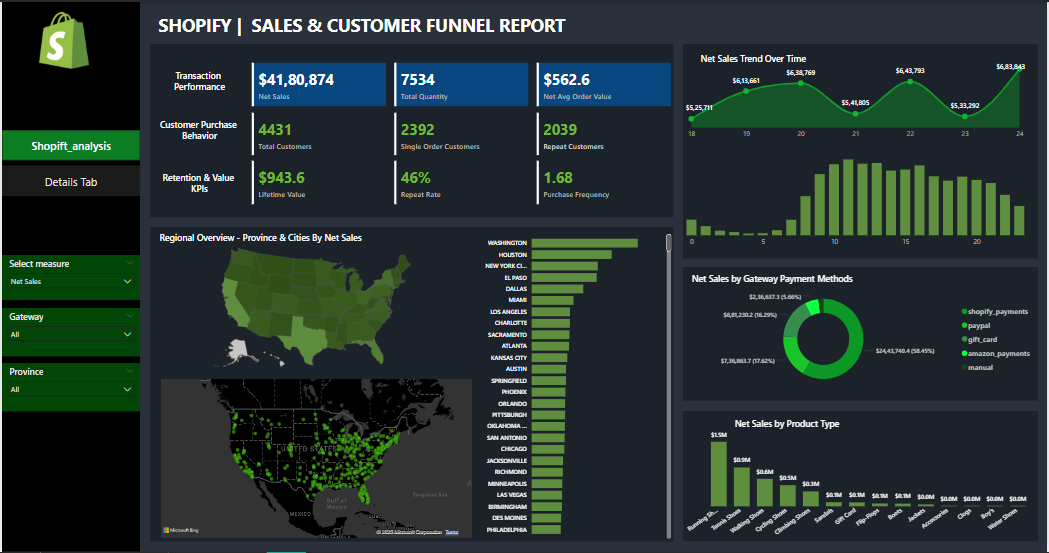

Layout of this report page (visuals, bound fields, positions):
{"tool":"powerbi","page":{"name":"Shopift_analysis","canvas":[1900,1000],"ordinal":0},"visuals":[{"type":"shape","box":[0,0,251.3,999],"z":0},{"type":"textbox","box":[269.7,14.3,770.2,67.4],"z":1000},{"type":"shape","box":[269.7,75.6,952,314.6],"z":2000},{"type":"cardVisual","fields":{"Data":["shopify_sales.Net Sales","shopify_sales.Total Quantity","shopify_sales.Net Avg Order Value"]},"box":[449.5,106.2,772.3,89.9],"z":3000},{"type":"card","fields":{"Values":["shopify_sales.Transaction Perf"]},"box":[269.7,98.1,179.8,89.9],"z":4000},{"type":"cardVisual","fields":{"Data":["shopify_sales.Total Customers","shopify_sales.Single Order Customers","shopify_sales.Repeat Customers"]},"box":[449.5,196.1,772.3,87.8],"z":5000},{"type":"card","fields":{"Values":["shopify_sales.Customer Purchase Behavior"]},"box":[269.7,188,179.8,89.9],"z":6000},{"type":"cardVisual","fields":{"Data":["shopify_sales.Lifetime Value","shopify_sales.Repeat Rate","shopify_sales.Purchase Frequency"]},"box":[449.5,284,772.3,89.9],"z":7000},{"type":"card","fields":{"Values":["shopify_sales.Retention & Value KPIs"]},"box":[269.7,284,179.8,89.9],"z":8000},{"type":"shape","box":[269.7,408.6,952,572],"z":9000},{"type":"shapeMap","fields":{"Value":["shopify_sales.Net Sales"],"Category":["shopify_sales.Billing Address Province"]},"box":[269.7,431.1,590.4,249.2],"z":10000},{"type":"slicer","fields":{"Values":["Select measure.Select measure"]},"box":[0,459.7,251.3,81.7],"z":11000},{"type":"map","fields":{"Category":["shopify_sales.Location"]},"box":[284,680.3,576.1,300.3],"z":12000},{"type":"clusteredBarChart","fields":{"Y":["shopify_sales.Net Sales"],"Category":["shopify_sales.CITY"]},"box":[860.1,408.6,361.6,572],"z":13000},{"type":"card","fields":{"Values":["Select measure.Map Title"]},"box":[170,408,598,46],"z":14000},{"type":"shape","box":[1238.1,75.6,645.6,390.2],"z":15000},{"type":"areaChart","fields":{"Y":["shopify_sales.Net Sales"],"Category":["shopify_sales.Invoice Date.Variation.Date Hierarchy.Day"]},"box":[1238.1,98.1,627.2,159.4],"z":16000},{"type":"clusteredColumnChart","fields":{"Y":["shopify_sales.Net Sales"],"Category":["shopify_sales.Hour"]},"box":[1238.1,257.4,627.2,196.1],"z":17000},{"type":"card","fields":{"Values":["shopify_sales.Trend Title"]},"box":[1140,81.7,447.4,44.9],"z":18000},{"type":"shape","box":[1238.1,482.2,645.6,243.1],"z":19000},{"type":"donutChart","fields":{"Y":["shopify_sales.Net Sales"],"Category":["shopify_sales.Gateway"]},"box":[1238.1,514.8,645.6,196.1],"z":20000},{"type":"card","fields":{"Values":["shopify_sales.Gateway Title"]},"box":[1174.7,482.2,447.4,44.9],"z":21000},{"type":"shape","box":[1238.1,743.7,645.6,237],"z":22000},{"type":"columnChart","fields":{"Y":["shopify_sales.Net Sales"],"Category":["shopify_sales.Product Type"]},"box":[1238.1,766.1,645.6,214.5],"z":23000},{"type":"card","fields":{"Values":["shopify_sales.Product Title"]},"box":[1238.1,743.7,373.9,49],"z":24000},{"type":"image","box":[57.2,12.3,112.4,114.4],"z":25000},{"type":"slicer","fields":{"Values":["shopify_sales.Gateway"]},"box":[0,555.7,251.3,87.8],"z":26000},{"type":"slicer","fields":{"Values":["shopify_sales.Billing Address Province"]},"box":[0,655.8,251.3,87.8],"z":27000},{"type":"pageNavigator","box":[0,232.9,251.3,120.5],"z":27001}]}

Visuals, with their boxes on the page's 1900x1000 design canvas (x1, y1, x2, y2). These are canvas units, not pixel positions in the 1049x553 screenshot, which may show the page scaled, cropped or inside an application window:
shape: (x1=0, y1=0, x2=251, y2=999)
textbox: (x1=270, y1=14, x2=1040, y2=82)
shape: (x1=270, y1=76, x2=1222, y2=390)
cardVisual - shopify_sales.Net Sales x shopify_sales.Total Quantity: (x1=450, y1=106, x2=1222, y2=196)
card - shopify_sales.Transaction Perf: (x1=270, y1=98, x2=450, y2=188)
cardVisual - shopify_sales.Total Customers x shopify_sales.Single Order Customers: (x1=450, y1=196, x2=1222, y2=284)
card - shopify_sales.Customer Purchase Behavior: (x1=270, y1=188, x2=450, y2=278)
cardVisual - shopify_sales.Lifetime Value x shopify_sales.Repeat Rate: (x1=450, y1=284, x2=1222, y2=374)
card - shopify_sales.Retention & Value KPIs: (x1=270, y1=284, x2=450, y2=374)
shape: (x1=270, y1=409, x2=1222, y2=981)
shapeMap - shopify_sales.Net Sales x shopify_sales.Billing Address Province: (x1=270, y1=431, x2=860, y2=680)
slicer - Select measure.Select measure: (x1=0, y1=460, x2=251, y2=541)
map - shopify_sales.Location: (x1=284, y1=680, x2=860, y2=981)
clusteredBarChart - shopify_sales.Net Sales x shopify_sales.CITY: (x1=860, y1=409, x2=1222, y2=981)
card - Select measure.Map Title: (x1=170, y1=408, x2=768, y2=454)
shape: (x1=1238, y1=76, x2=1884, y2=466)
areaChart - shopify_sales.Net Sales x shopify_sales.Invoice Date.Variation.Date Hierarchy.Day: (x1=1238, y1=98, x2=1865, y2=258)
clusteredColumnChart - shopify_sales.Net Sales x shopify_sales.Hour: (x1=1238, y1=257, x2=1865, y2=454)
card - shopify_sales.Trend Title: (x1=1140, y1=82, x2=1587, y2=127)
shape: (x1=1238, y1=482, x2=1884, y2=725)
donutChart - shopify_sales.Net Sales x shopify_sales.Gateway: (x1=1238, y1=515, x2=1884, y2=711)
card - shopify_sales.Gateway Title: (x1=1175, y1=482, x2=1622, y2=527)
shape: (x1=1238, y1=744, x2=1884, y2=981)
columnChart - shopify_sales.Net Sales x shopify_sales.Product Type: (x1=1238, y1=766, x2=1884, y2=981)
card - shopify_sales.Product Title: (x1=1238, y1=744, x2=1612, y2=793)
image: (x1=57, y1=12, x2=170, y2=127)
slicer - shopify_sales.Gateway: (x1=0, y1=556, x2=251, y2=644)
slicer - shopify_sales.Billing Address Province: (x1=0, y1=656, x2=251, y2=744)
pageNavigator: (x1=0, y1=233, x2=251, y2=353)
